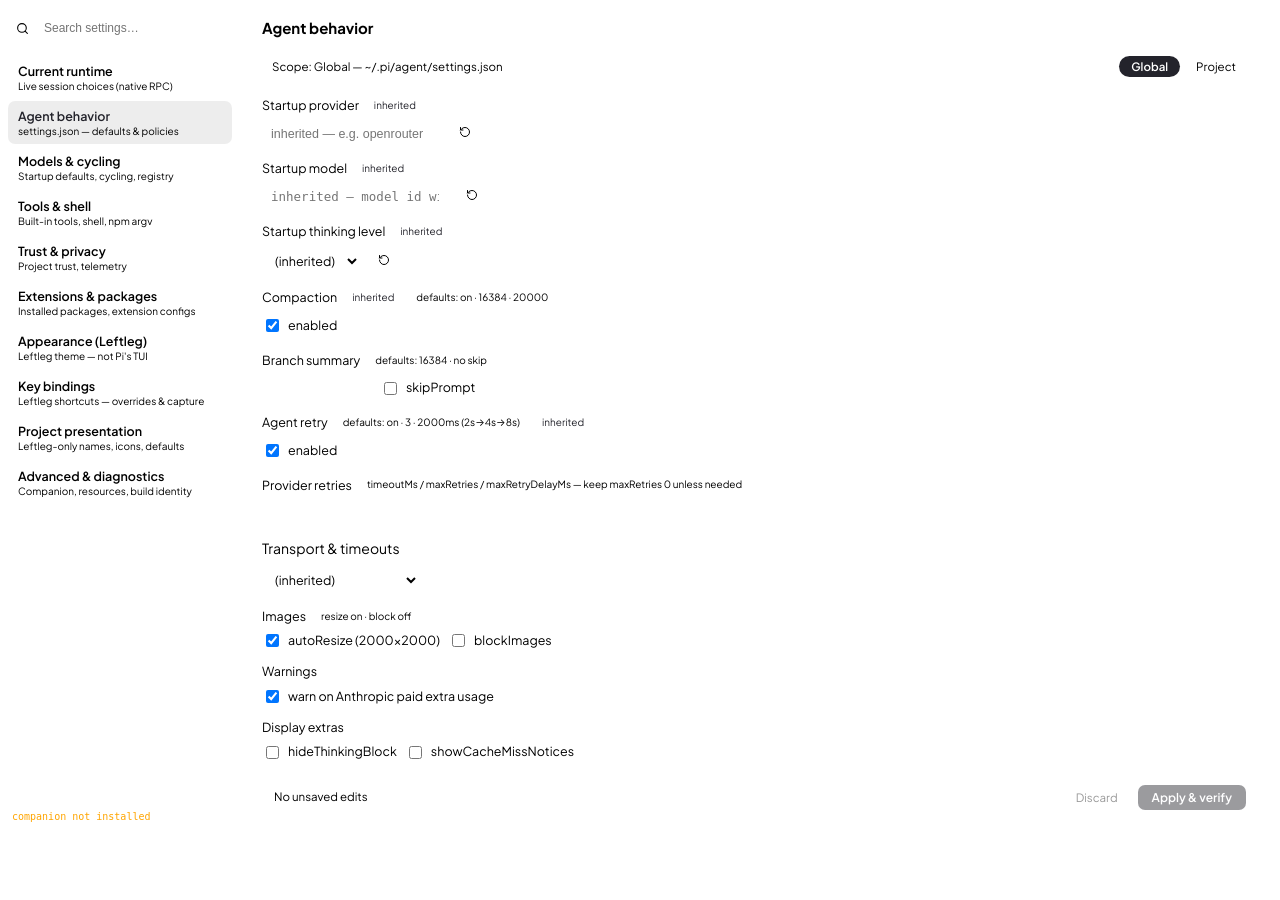
Scenario: key binding capture wiring › stays armed when capture starts, instead of being disarmed by the section effect
Click the button "Key bindings Leftleg shortcuts — overrides & capture": coordinates (120, 392) [8,371,232,414]
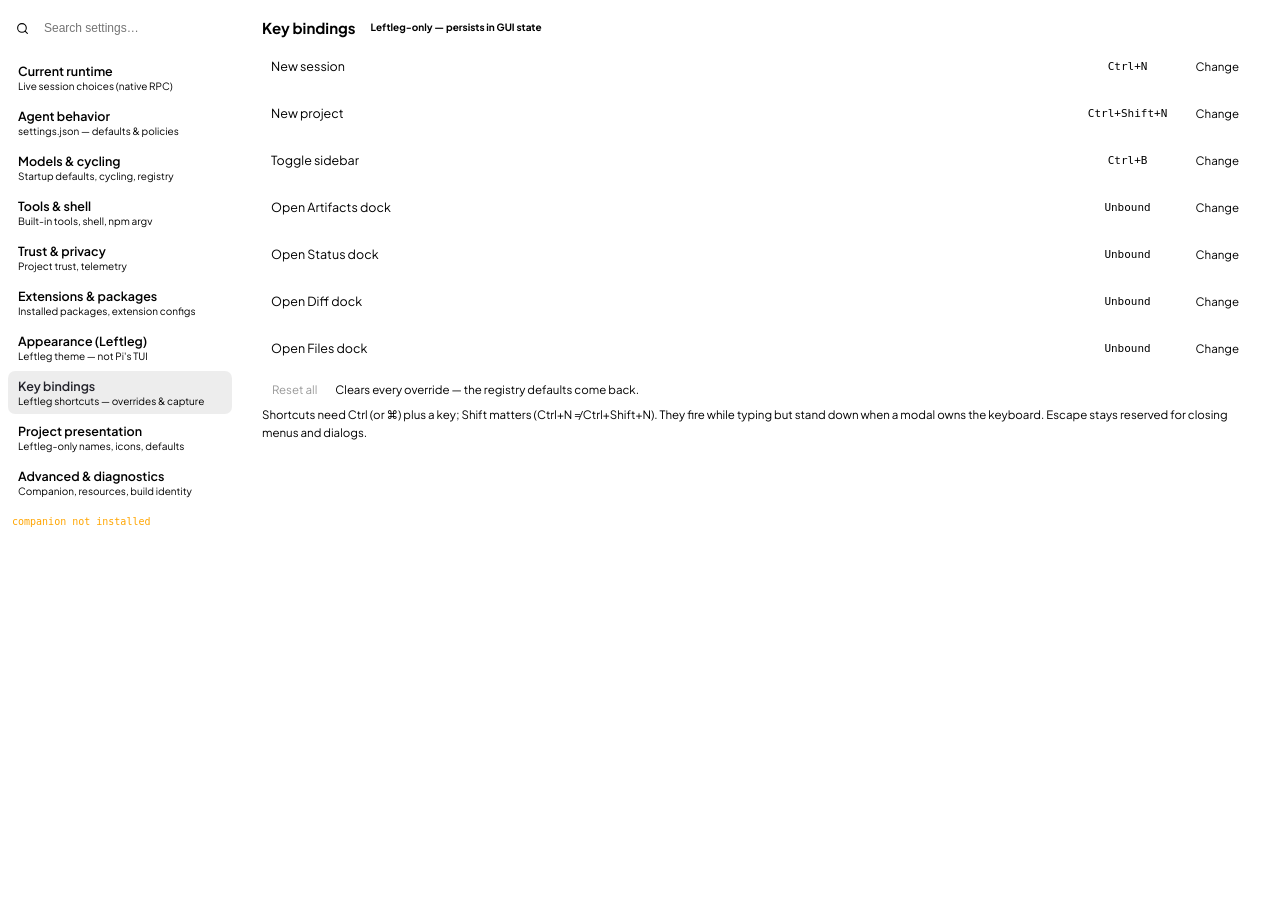
Click the button "Change" in the row of "Open Artifacts dock": coordinates (1217, 208) [1186,196,1249,219]
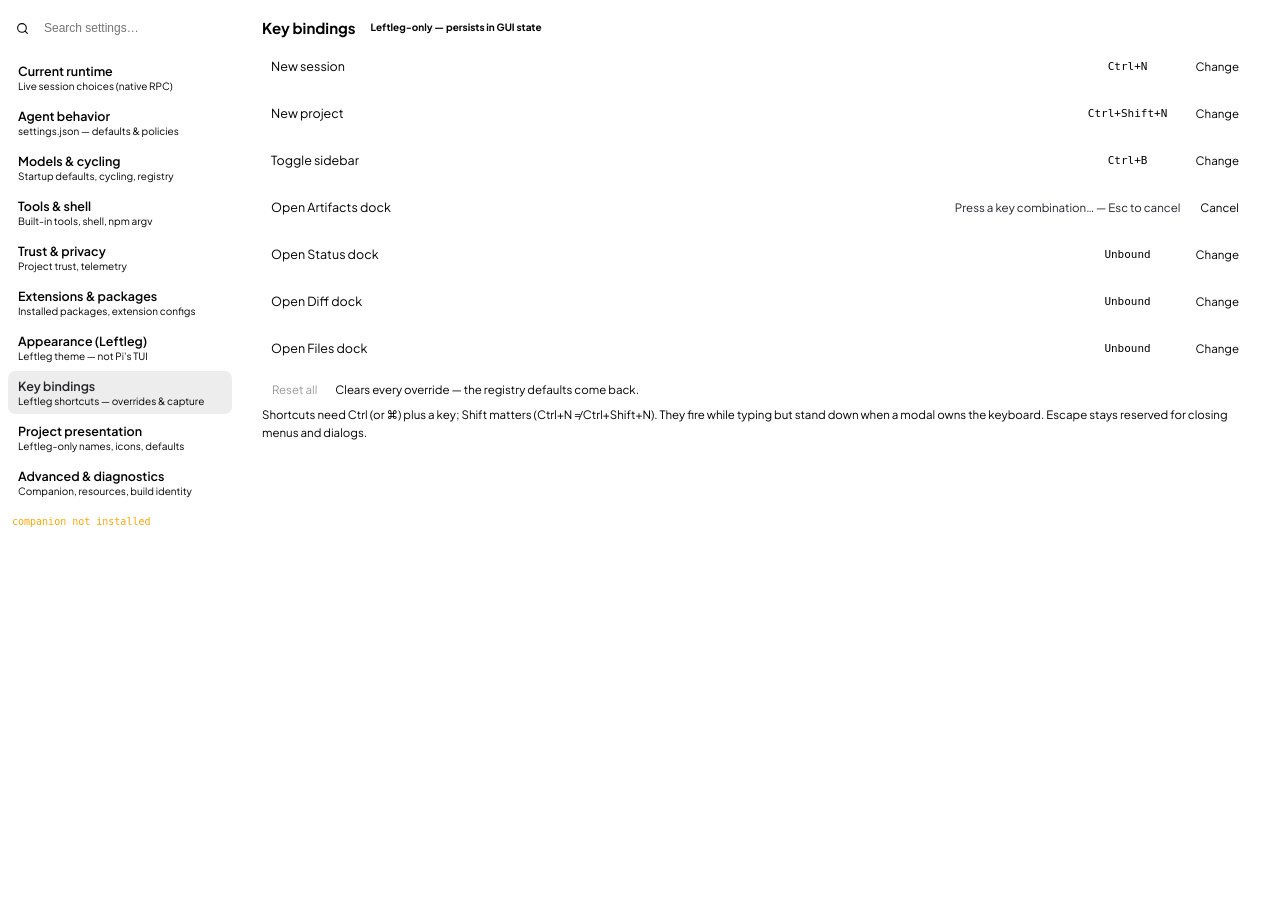
expect the element with class "kb-row" shows "Press a key combination": met, box [955,200,1180,215]
